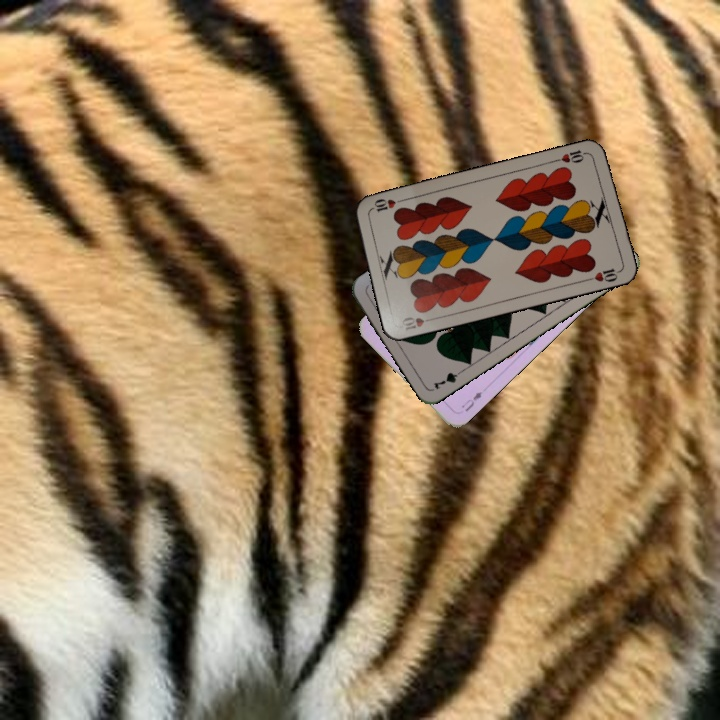EU: (457, 387, 485, 414)
G7: (429, 365, 467, 392)
H10: (398, 313, 438, 334), (551, 146, 591, 165)
